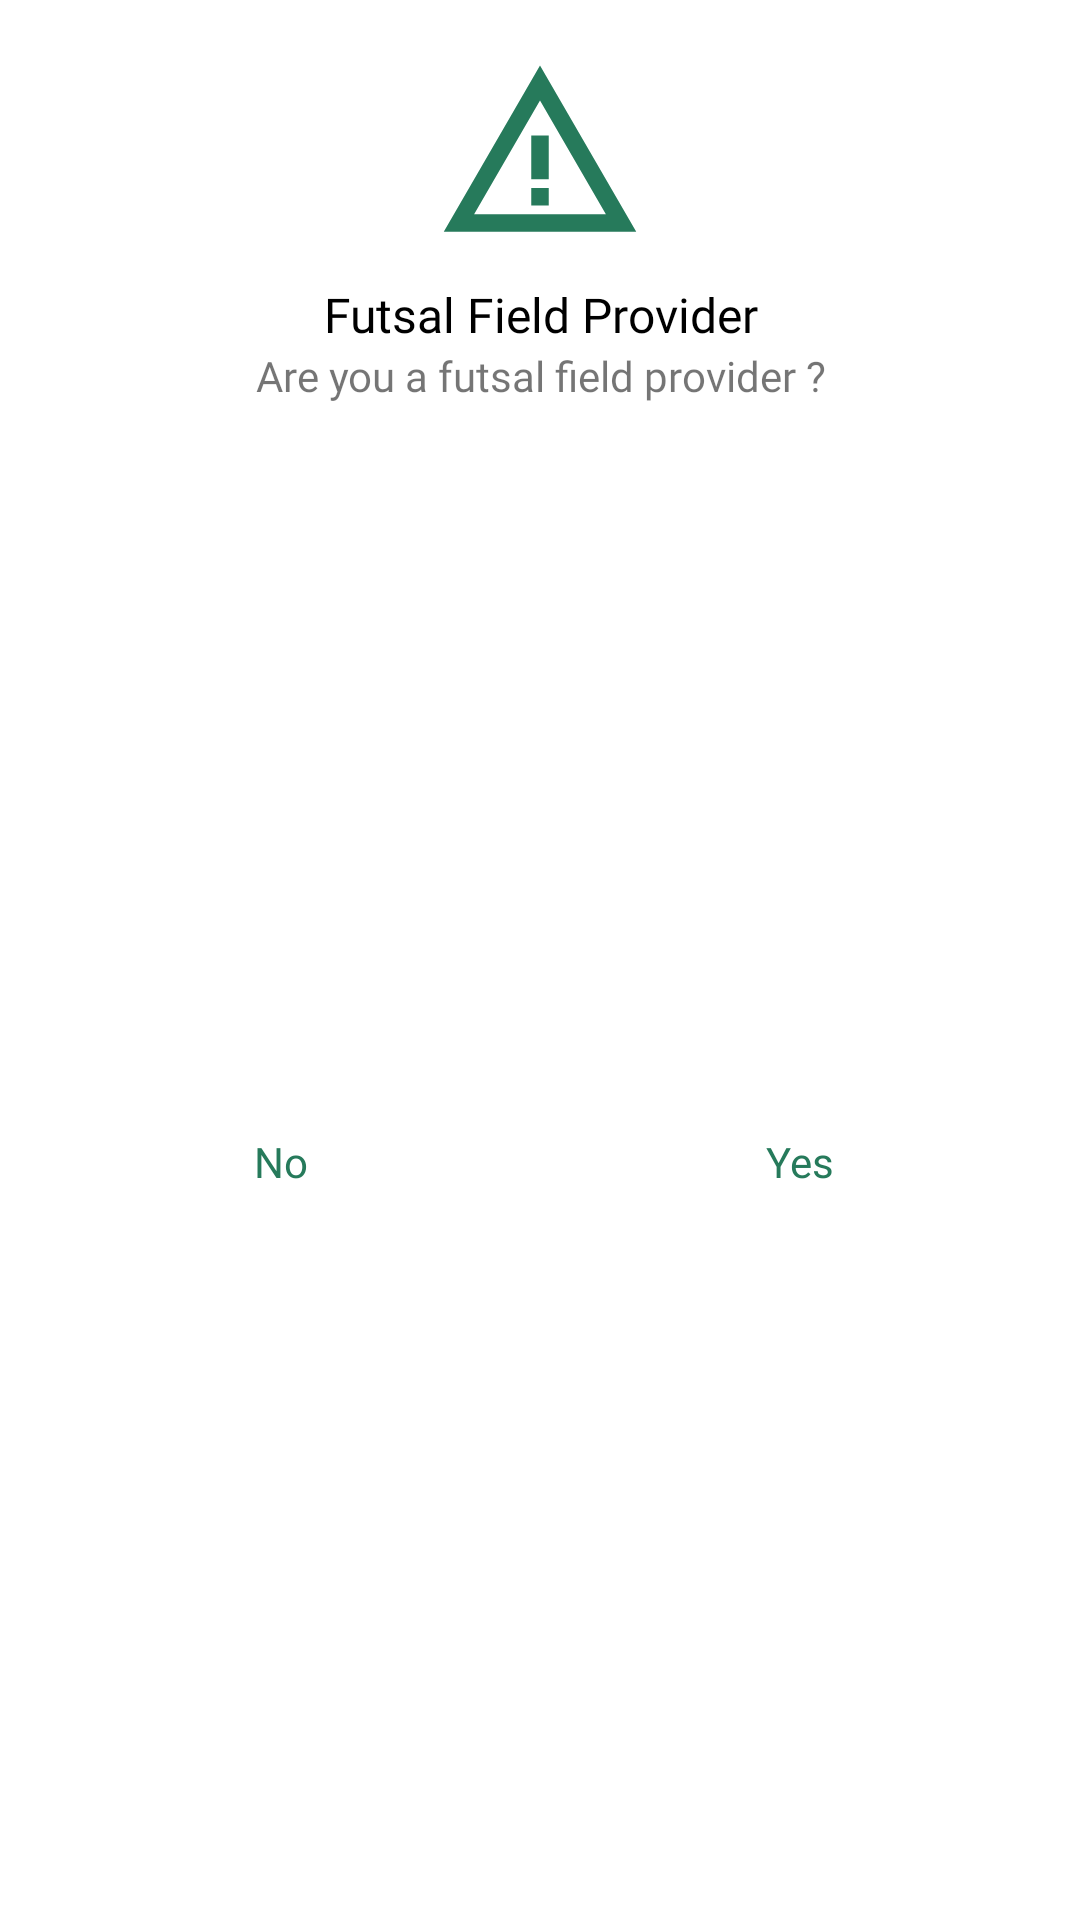

Screen size 1080 x 1920. Icon name, then its center in pixels as point (x, y):
warning: point (540, 149)
